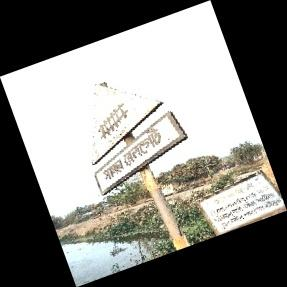Rail-crossing: (92, 76, 189, 210)
